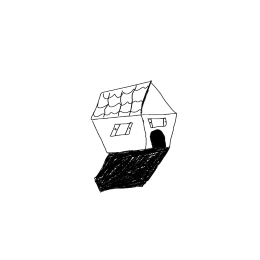door: (148, 129, 169, 153)
open_window: (108, 121, 135, 138), (147, 116, 168, 129)
roof: (84, 79, 180, 121)
shadow: (92, 145, 173, 196)
small_house: (3, 1, 260, 260)
wall: (91, 115, 149, 154)
